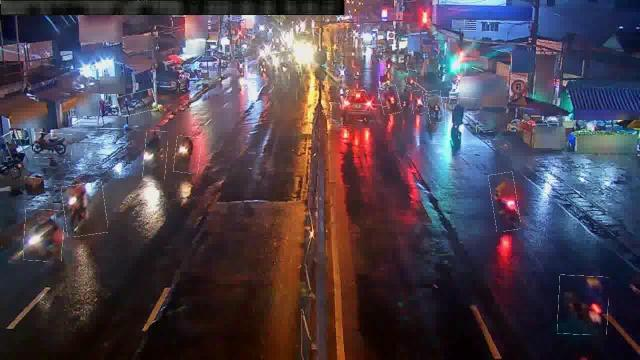Bike: (558, 276, 608, 334), (63, 184, 107, 236), (24, 209, 64, 261), (491, 172, 519, 232), (445, 98, 477, 138), (144, 131, 168, 182), (174, 137, 200, 174), (34, 134, 72, 158), (118, 91, 156, 115), (380, 86, 400, 115), (427, 90, 443, 124), (399, 89, 413, 115), (411, 90, 425, 114), (407, 70, 417, 86)
Car: (342, 87, 374, 121)
